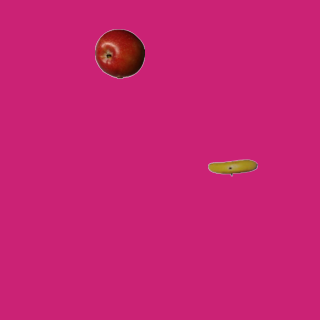Apple Braeburn: (94, 28, 144, 78)
Banana: (207, 142, 257, 192)
